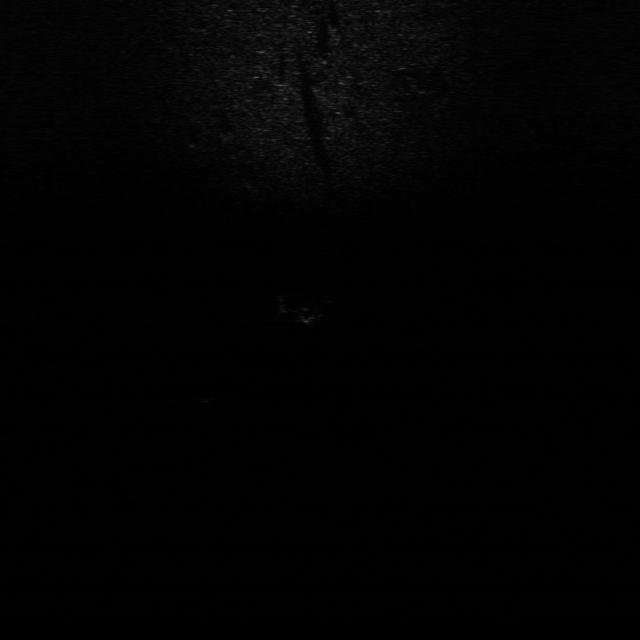ball: (190, 382, 220, 405)
human body: (272, 290, 333, 325)
